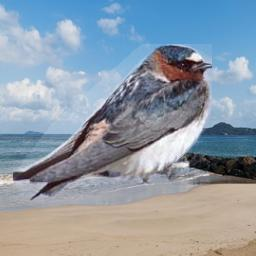Swallow: (13, 44, 212, 204)
